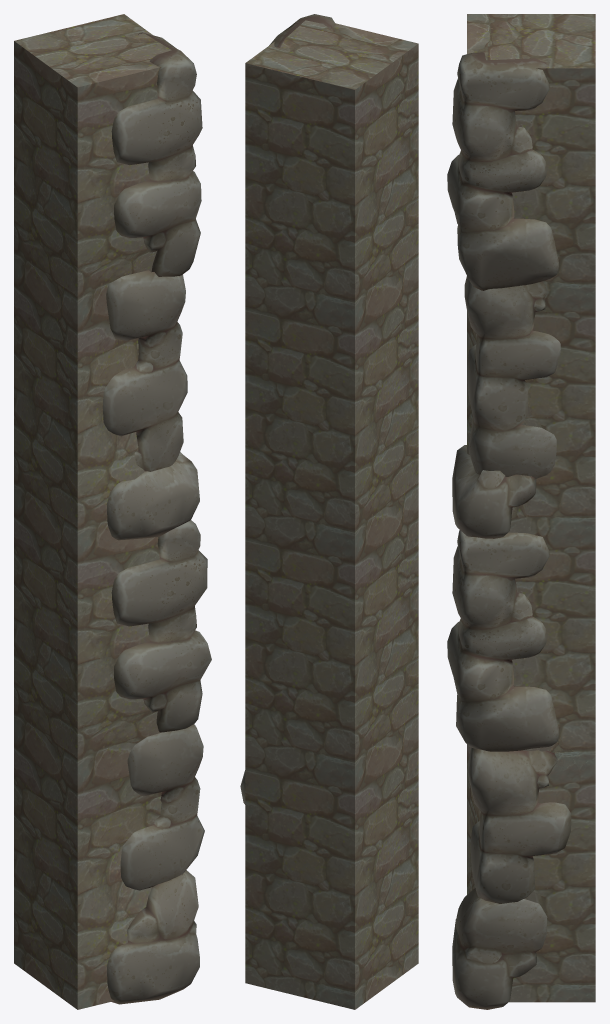
The model's file is SM_FW01_Ruins_Wall_Corner_Tall_02.fbx.
The picture shows the model from 3 angles, left to right: view 1: azimuth 30°, elevation 25°; view 2: azimuth 150°, elevation 25°; view 3: azimuth 270°, elevation 25°; orthographic projection.
Parts seen in each view (by area): view 1: SM_FW01_Ruins_Wall_Corner_Tall_02, SM_FW01_Ruins_Wall_Corner_Tall_02_LOD0; view 2: SM_FW01_Ruins_Wall_Corner_Tall_02, SM_FW01_Ruins_Wall_Corner_Tall_02_LOD0; view 3: SM_FW01_Ruins_Wall_Corner_Tall_02_LOD0, SM_FW01_Ruins_Wall_Corner_Tall_02.
Boxes of the visible parts, box(x1,y1,x2,y2) form: SM_FW01_Ruins_Wall_Corner_Tall_02: box(14, 14, 171, 1009); SM_FW01_Ruins_Wall_Corner_Tall_02_LOD0: box(102, 32, 211, 1004); SM_FW01_Ruins_Wall_Corner_Tall_02: box(245, 20, 418, 1009); SM_FW01_Ruins_Wall_Corner_Tall_02_LOD0: box(240, 14, 334, 804); SM_FW01_Ruins_Wall_Corner_Tall_02_LOD0: box(447, 52, 571, 1009); SM_FW01_Ruins_Wall_Corner_Tall_02: box(467, 14, 595, 1002).
Size of what is drawn, in the model's own units: 1.24 by 8.14 by 1.15.
